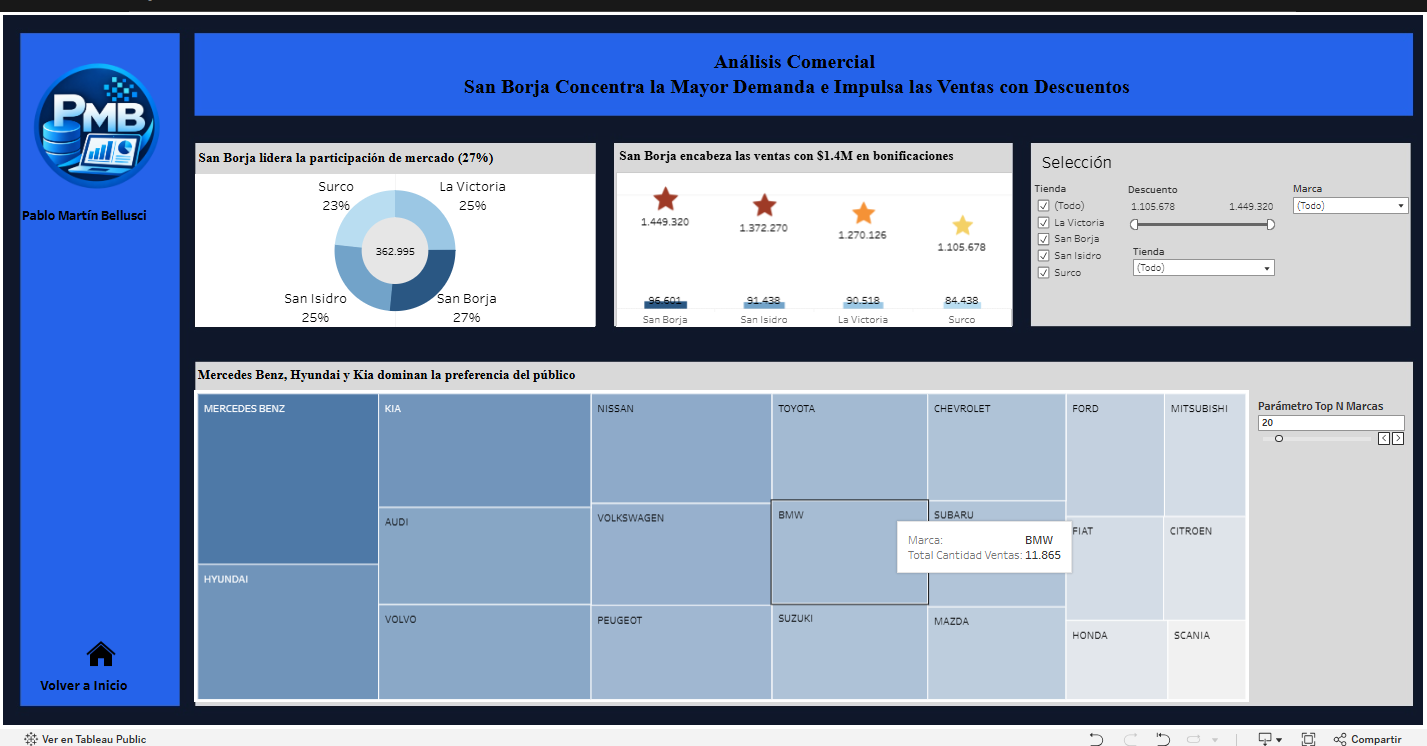

Layout of this report page (visuals, bound fields, positions):
{"tool":"tableau","page":{"name":"KPIs/Resumen Ejecutivo","canvas":[1720,860],"ordinal":2},"visuals":[{"type":"image","param":"Image/Group 3.png","box":[0,0,1720,860]},{"type":"image","param":"Image/Logo PMB Azulado sin fondo.png","box":[40,55,169,163]},{"type":"text","box":[380,56,1156,45]},{"type":"worksheet","title":"Case Ranking","mark":"Shape","rows":["MARCA","Cantidad vendida"],"box":[1361,176,336,158]},{"type":"worksheet","title":"Desc. Total x Tienda","mark":"Automatic","rows":["TIENDA"],"box":[981,177,344,157]},{"type":"worksheet","title":"KPI Ventas","mark":"Automatic","box":[250,182,337,154]},{"type":"worksheet","title":"Ventas x Tienda","mark":"Automatic","rows":["Cantidad vendida"],"cols":["TIENDA"],"box":[608,182,344,153]},{"type":"text","box":[31,232,223,21]},{"type":"worksheet","title":"Parametros Cat.","mark":"Automatic","rows":["Cantidad vendida"],"cols":["Calculation_1080045115854849"],"box":[250,384,512,440]},{"type":"worksheet","title":"Parametros N","mark":"Automatic","rows":["MARCA"],"cols":["Cantidad vendida"],"box":[981,389,531,435]},{"type":"parameter","param":"[Parameters].[Parámetro 0688894604242945]","box":[1518,436,178,71]},{"type":"legend","title":"Parametros Cat.","param":"[federated.1di2xul0snxk3f14lpemy1rxo0c5].[sum:Cantidad vendida:qk]","box":[783,438,140,71]},{"type":"parameter","param":"[Parameters].[Parámetro 1080045115379712]","box":[774,529,160,48]},{"type":"dashboard-object","box":[104,751,44,38]},{"type":"text","box":[53,792,140,30]}]}

Visuals, with their boxes on the page's 1720x860 design canvas (x1, y1, x2, y2). These are canvas units, not pixel positions in the 1427x746 screenshot, which may show the page scaled, cropped or inside an application window:
image: crop(0, 0, 1720, 860)
image: crop(40, 55, 209, 218)
text: crop(380, 56, 1536, 101)
"Case Ranking" worksheet (Shape marks): crop(1361, 176, 1697, 334)
"Desc. Total x Tienda" worksheet: crop(981, 177, 1325, 334)
"KPI Ventas" worksheet: crop(250, 182, 587, 336)
"Ventas x Tienda" worksheet: crop(608, 182, 952, 335)
text: crop(31, 232, 254, 253)
"Parametros Cat." worksheet: crop(250, 384, 762, 824)
"Parametros N" worksheet: crop(981, 389, 1512, 824)
parameter: crop(1518, 436, 1696, 507)
"Parametros Cat." legend: crop(783, 438, 923, 509)
parameter: crop(774, 529, 934, 577)
dashboard-object: crop(104, 751, 148, 789)
text: crop(53, 792, 193, 822)
